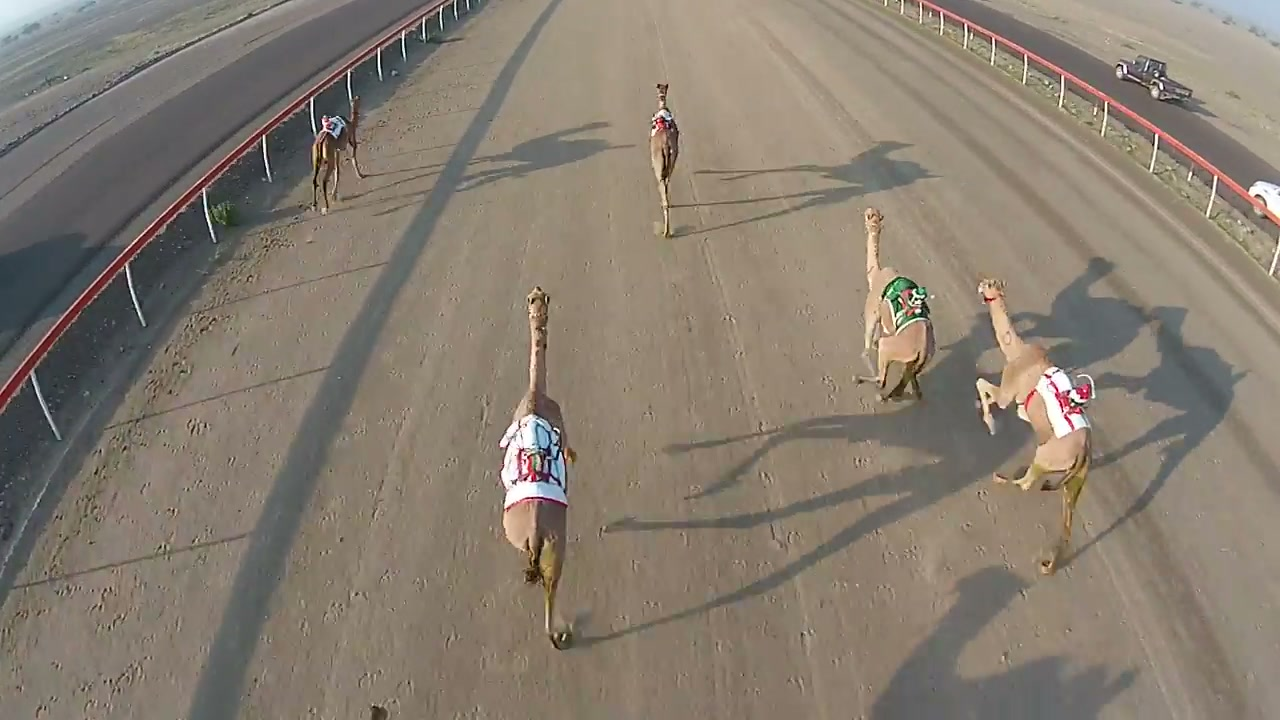animal_foot_print: (37, 213, 329, 697)
